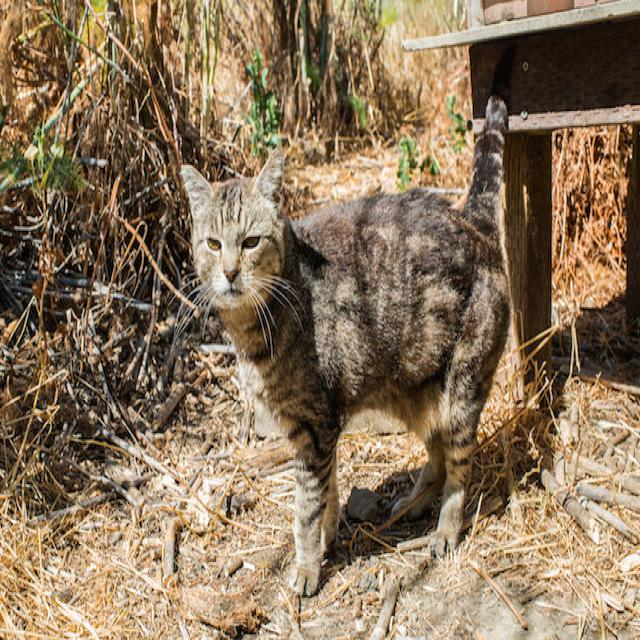cat: (182, 98, 510, 595)
